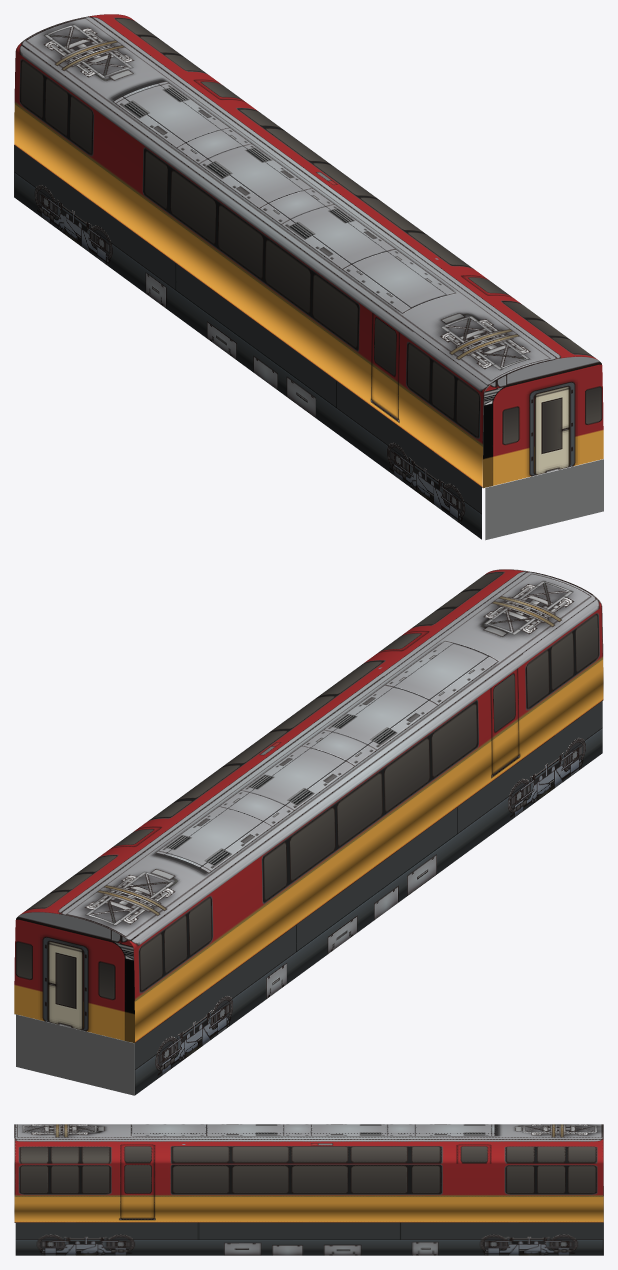
Rendered from car2.glb.
The picture shows the model from 3 angles, top to bottom: view 1: azimuth 30°, elevation 25°; view 2: azimuth 150°, elevation 25°; view 3: azimuth 270°, elevation 25°; orthographic projection. The views are drawn at different scales.
Visible parts, largest first — view 1: keihan-8000-car2; view 2: keihan-8000-car2; view 3: keihan-8000-car2.
Boxes of the visible parts, x1,y1,x2,y2 form: keihan-8000-car2: (14, 14, 603, 540); keihan-8000-car2: (14, 569, 603, 1095); keihan-8000-car2: (14, 1124, 603, 1255).
Bounding box in the file's own units: 2.78 × 3.6 × 18.73.
Materials: 7 (6 with a texture image).
